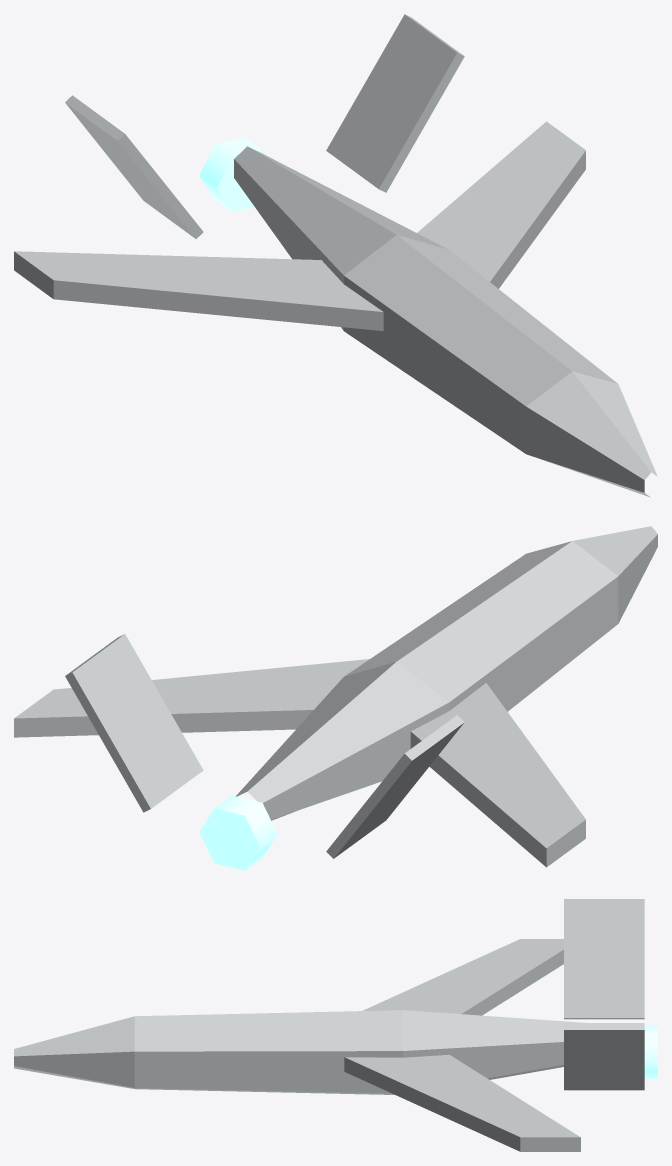
File: veh_air_drone_recon_a09.glb
3 views of the same model, one above another, from view 1: azimuth 30°, elevation 25°; view 2: azimuth 150°, elevation 25°; view 3: azimuth 270°, elevation 25° (orthographic). The views are drawn at different scales.
Parts seen in each view (by area): view 1: body; view 2: body; view 3: body.
Part boxes in pixels (box(x1,y1,x2,y2)): body: box(14, 14, 657, 497); body: box(14, 526, 657, 870); body: box(14, 899, 657, 1151).
Size of what is drawn, in the model's own units: 3.5 by 1.1 by 4.8.
